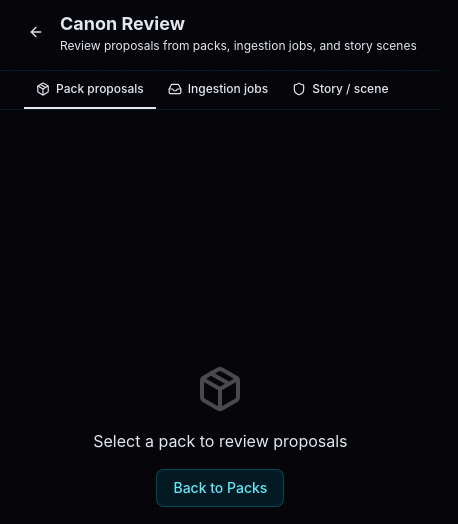
Test: /forge/review — scope switcher (F2-3a) › defaults to the pack scope and switches between the three scopes
expect the text "Select a pack to review proposals" is shown: met, box [93,429,348,453]
Switch to ingestion jobs
Click the button "Ingestion jobs" at (218, 90), box [156,71,280,109]
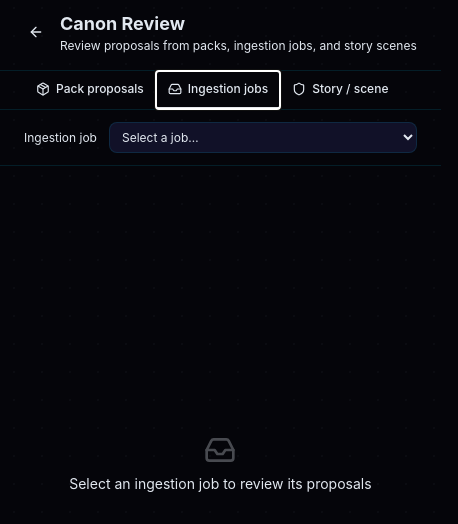
expect the text "Select an ingestion job to review its proposals" is shown: met, box [69,474,372,494]
Switch to story / scene
Click the button "Story / scene" at (340, 90), box [280,71,400,109]
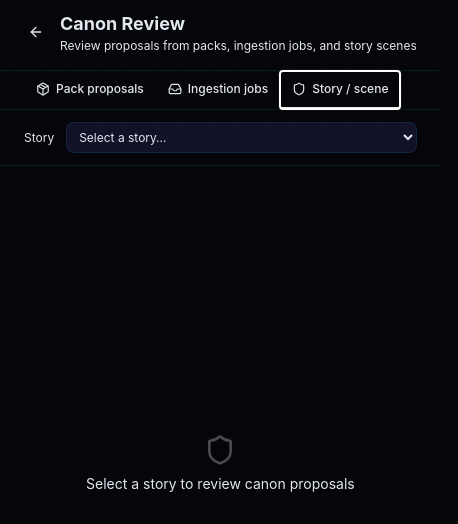
expect the text "Select a story to review canon proposals" is shown: met, box [86,474,355,494]
